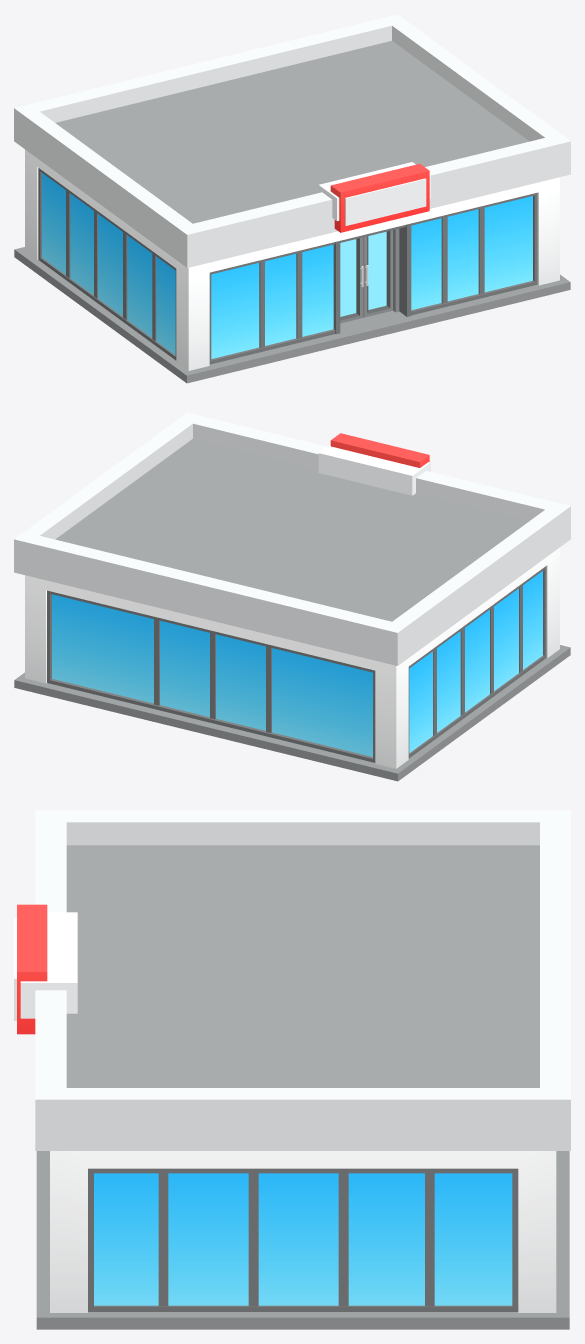
File: Building_Supermarket_08.glb
3 renders of one model, top to bottom at view 1: azimuth 30°, elevation 25°; view 2: azimuth 150°, elevation 25°; view 3: azimuth 270°, elevation 25°, orthographic. The views are drawn at different scales.
Parts seen in each view (by area): view 1: Building_Supermarket_08; view 2: Building_Supermarket_08; view 3: Building_Supermarket_08.
Boxes of the visible parts, x1=… form: Building_Supermarket_08: x1=14, y1=14, x2=570, y2=383; Building_Supermarket_08: x1=14, y1=412, x2=570, y2=781; Building_Supermarket_08: x1=14, y1=810, x2=570, y2=1329.
Size of the model in its own units: 10.34 by 4.11 by 8.41.
1 material, 1 textured.
